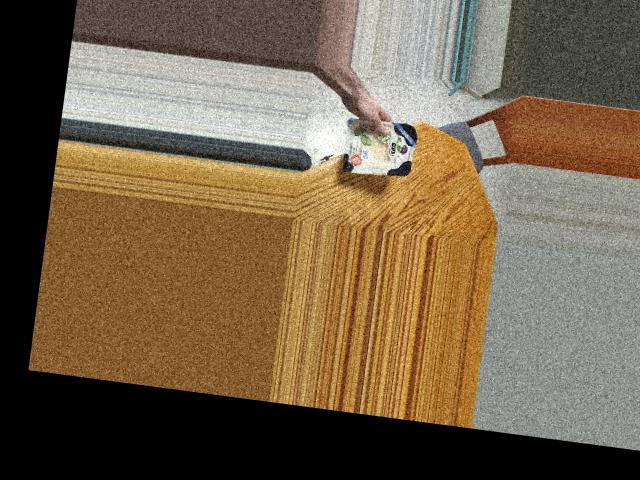cheese: (326, 112, 434, 181)
